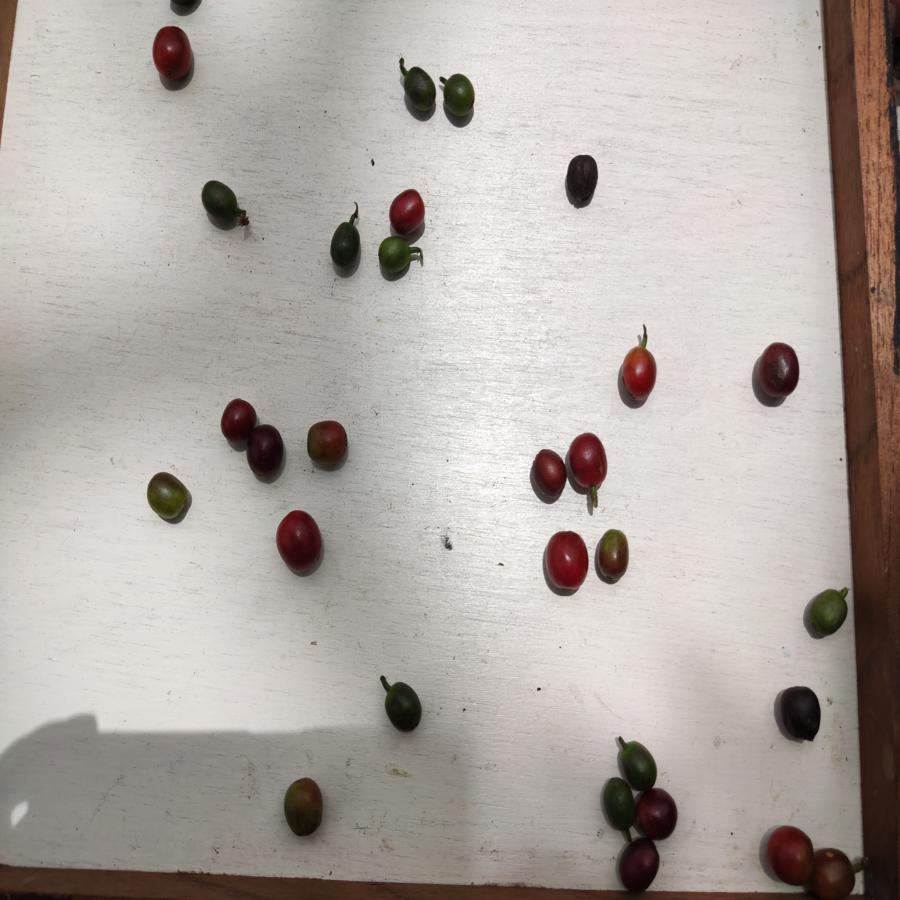Inmaduro: (385, 678, 424, 734), (808, 587, 849, 638), (601, 775, 636, 833), (402, 61, 438, 116), (201, 177, 241, 226), (619, 741, 660, 788), (326, 220, 361, 271), (444, 73, 478, 120), (379, 236, 413, 279)
Maduro: (275, 510, 323, 578), (542, 530, 590, 595), (765, 824, 812, 886), (150, 24, 193, 86), (567, 431, 608, 493), (618, 347, 658, 405), (387, 185, 427, 236)
Pinton: (280, 773, 325, 839), (812, 842, 857, 900), (303, 418, 350, 470), (146, 471, 191, 524), (595, 528, 631, 585)
Sobremaduro: (753, 338, 806, 402), (778, 681, 822, 743), (559, 152, 603, 211), (616, 835, 663, 890), (244, 423, 285, 482), (637, 786, 679, 838), (531, 446, 566, 500), (218, 396, 255, 441)
